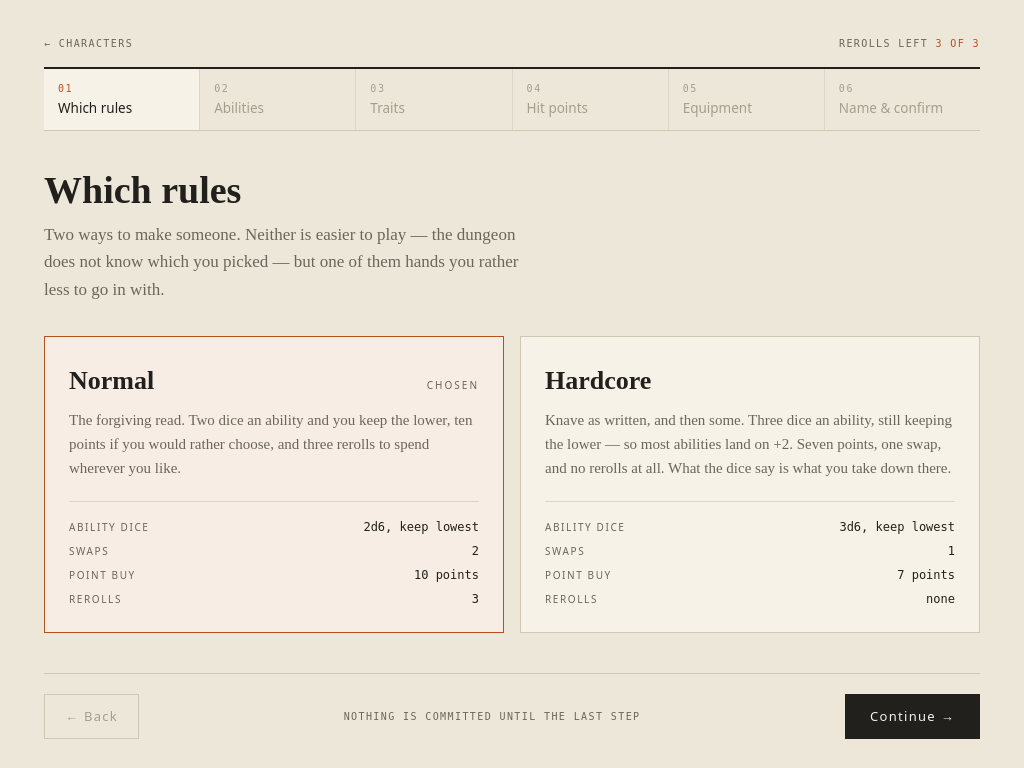
Test case: the weapon picker › does not ask which sling you meant
Click the button "05 Equipment".
click(747, 100)  # box [669,69,825,130]
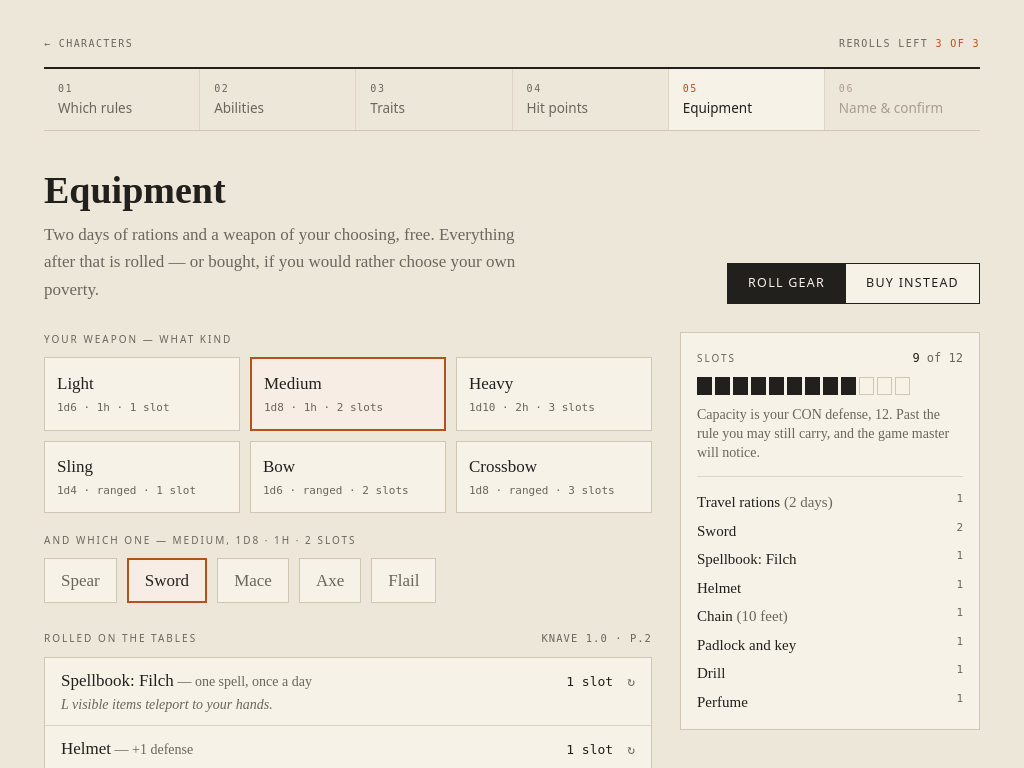
Click the button with aria-label "Sling weapon".
click(142, 477)  # box [44,441,240,513]
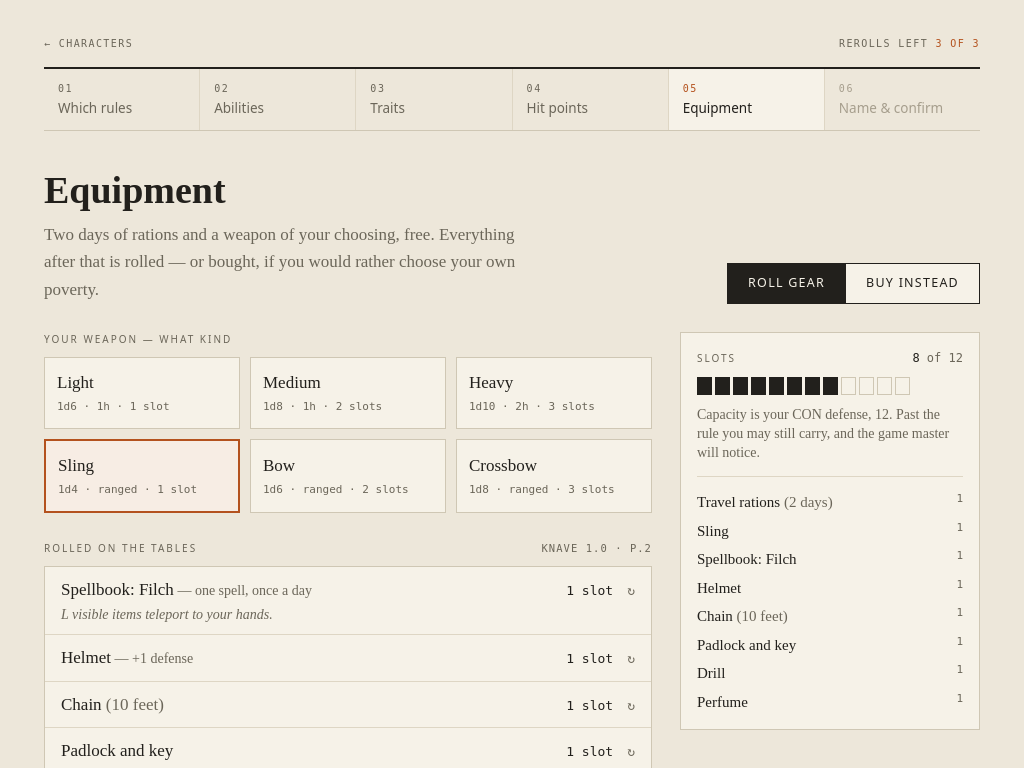
Now the text "Sling" below "Your weapon — what kind" is shown, box [58,456,94,475]
Now the text "And which one" is gone
